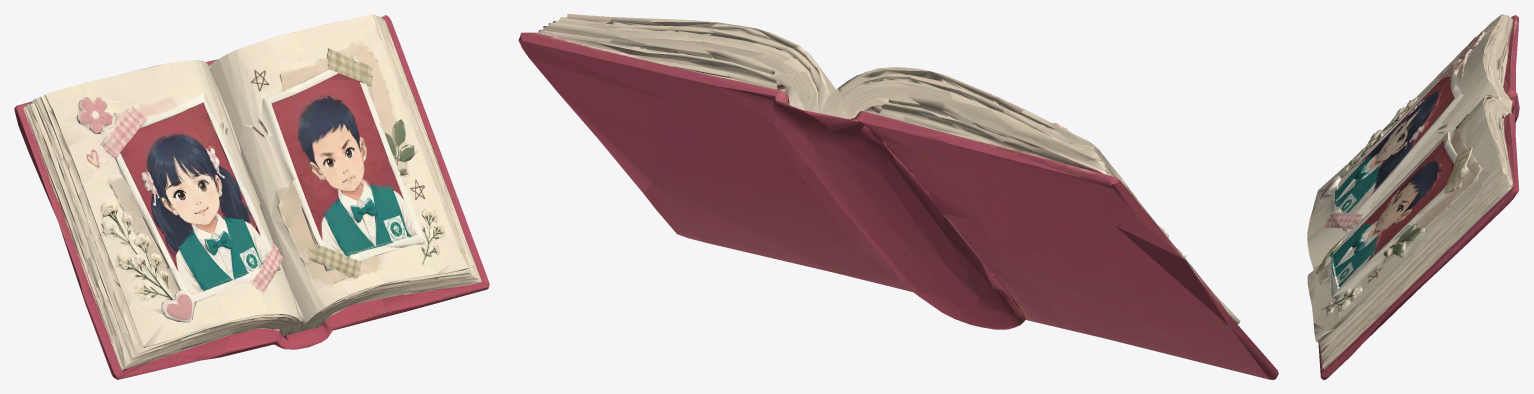
File: Book.glb
The picture shows the model from 3 angles, left to right: view 1: azimuth 30°, elevation 25°; view 2: azimuth 150°, elevation 25°; view 3: azimuth 270°, elevation 25°; orthographic projection. The views are drawn at different scales.
Parts seen in each view (by area): view 1: Mesh_0; view 2: Mesh_0; view 3: Mesh_0.
Boxes of the visible parts, box(x1,y1,x2,y2) form: Mesh_0: box(14, 14, 489, 379); Mesh_0: box(518, 14, 1278, 379); Mesh_0: box(1307, 14, 1519, 379).
Size of the model in its own units: 1.9 by 1.13 by 0.9687.
1 material, 1 textured.
